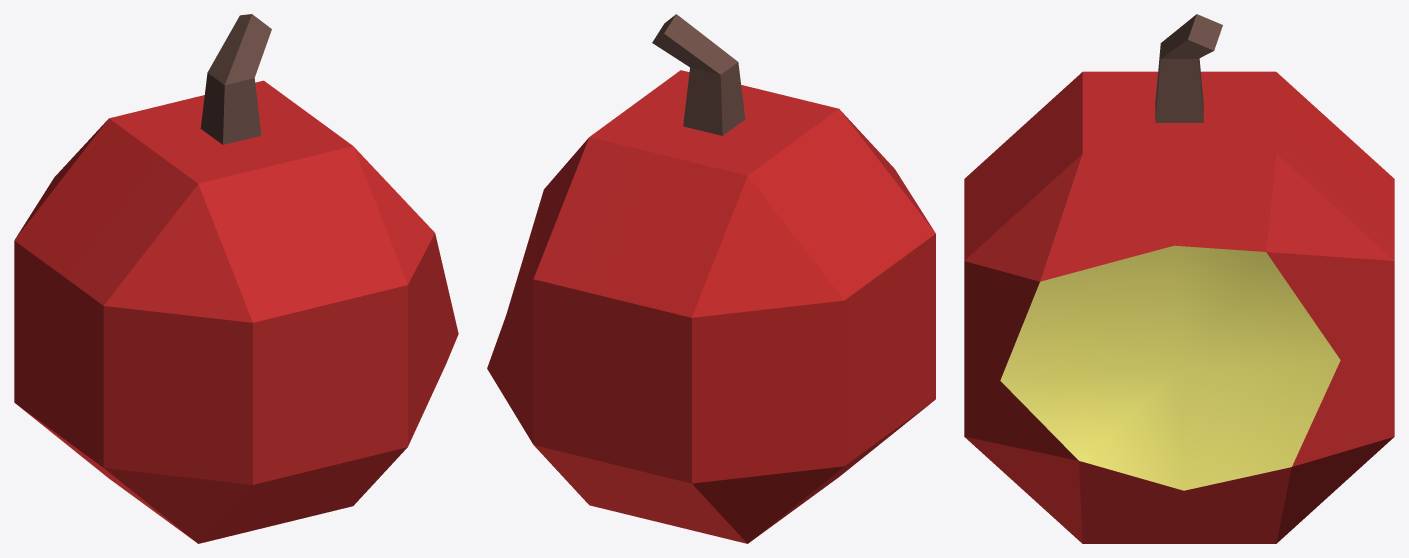
Rendered from AppleTrash.fbx.
3 renders of one model, left to right at view 1: azimuth 30°, elevation 25°; view 2: azimuth 150°, elevation 25°; view 3: azimuth 270°, elevation 25°, orthographic. The views are drawn at different scales.
Visible parts, largest first — view 1: AppleBit; view 2: AppleBit; view 3: AppleBit.
Boxes of the visible parts, box(x1,y1,x2,y2) form: AppleBit: box(14, 14, 458, 543); AppleBit: box(487, 14, 935, 543); AppleBit: box(964, 14, 1394, 543).
Bounding box in the file's own units: 20.89 × 27.14 × 21.
